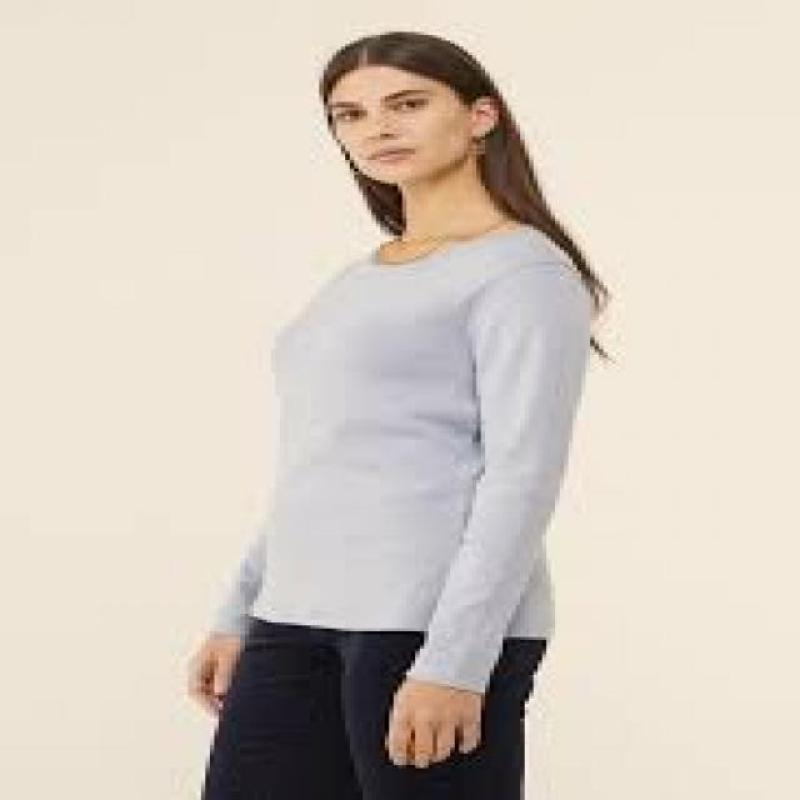sweater: (203, 219, 593, 698)
trousers: (199, 616, 552, 800)
